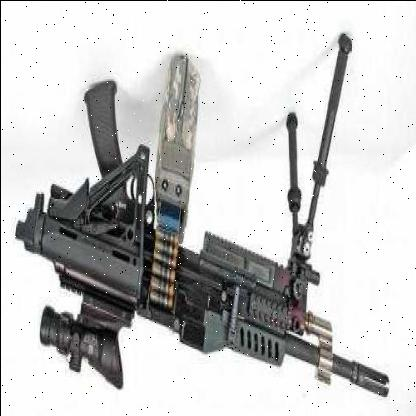rifle: (7, 28, 389, 413)
